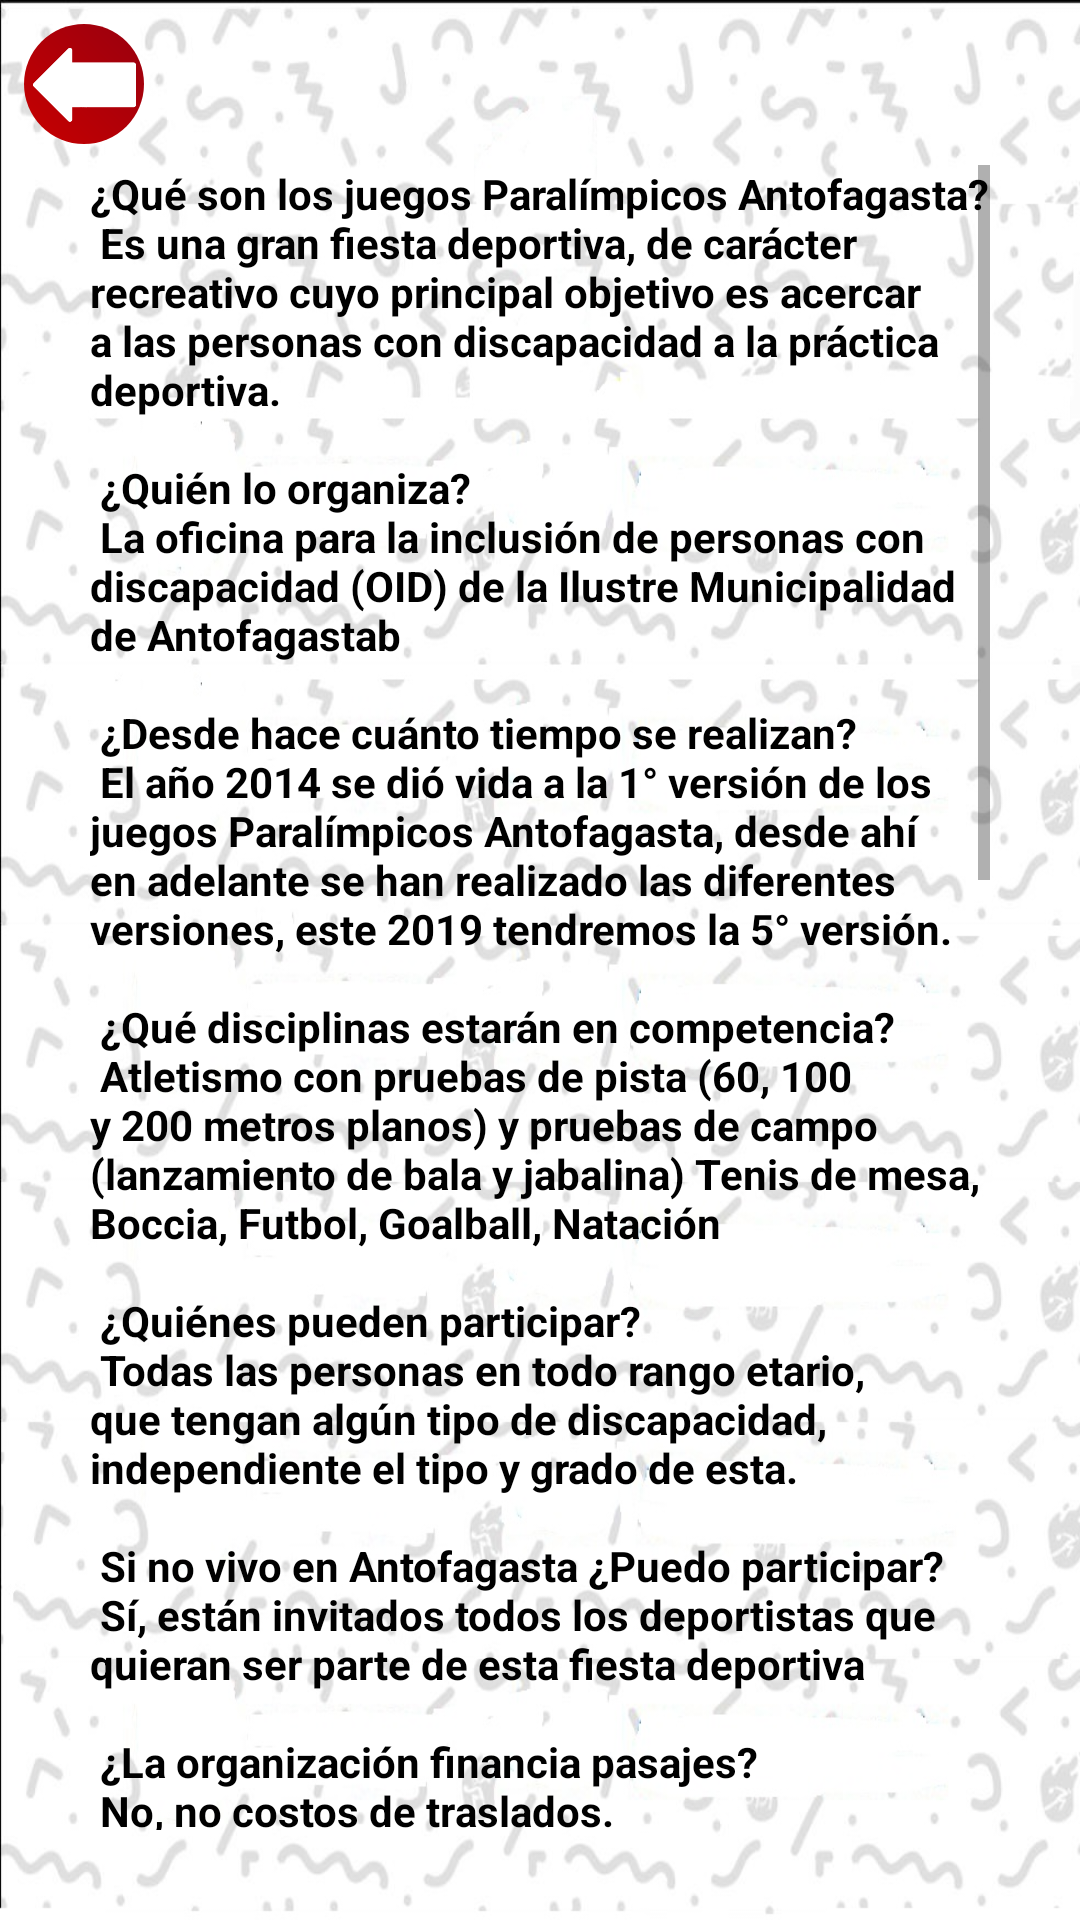

Icon bounding boxes for this 1080x1920 phone screenshot, format (left=x1, top=y1, right=x2, bottom=y2):
back: (left=24, top=24, right=144, bottom=144)
